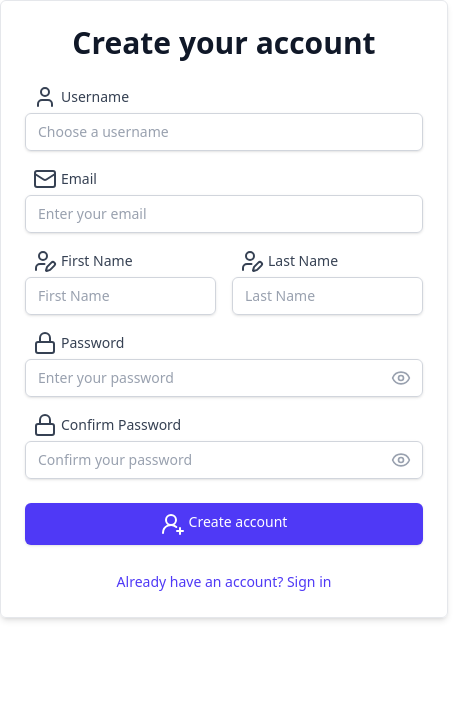
RegisterForm › API Integration › handles server health check failure
The image size is (465, 720).
Type "testuser" into the field labelled "Username" at point(224, 132), box [25,113,423,151]
Type "test@example.com" into the field labelled "Email" at point(224, 214), box [25,195,423,233]
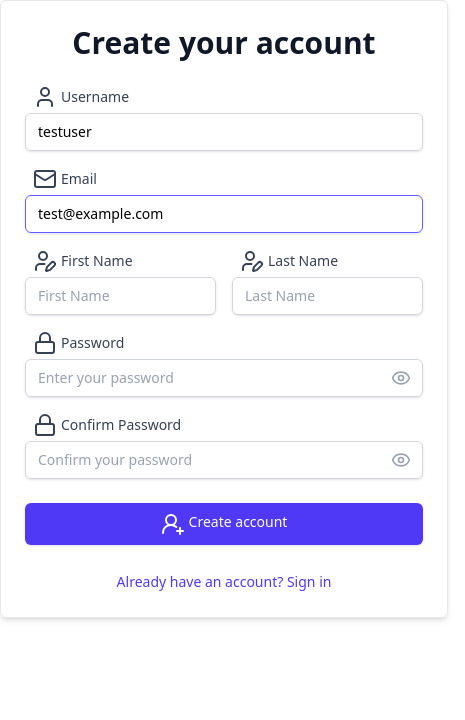
Type "John" into the field labelled "First Name" at point(120, 296), box [25,277,216,315]
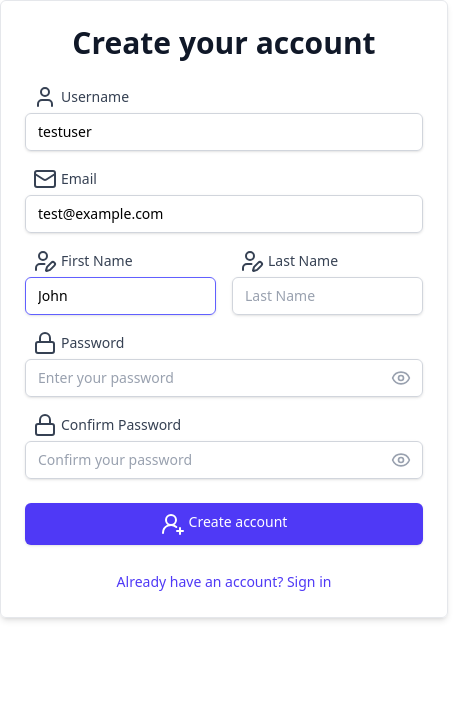
Type "Doe" into the field labelled "Last Name" at point(328, 296), box [232,277,423,315]
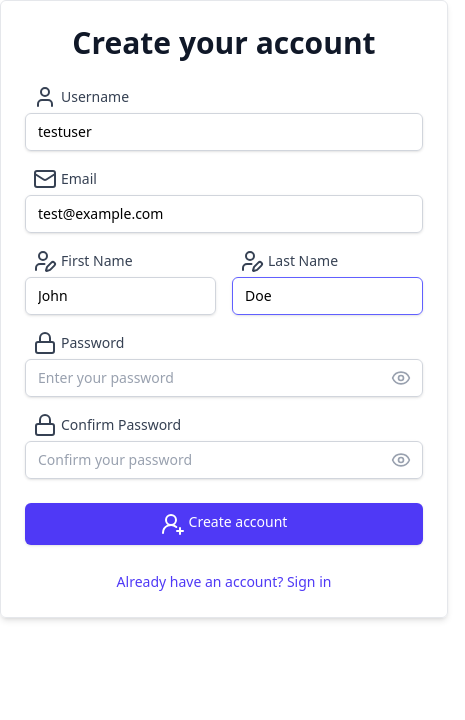
Type "password123" into the password field labelled "Password" at point(224, 378), box [25,359,423,397]
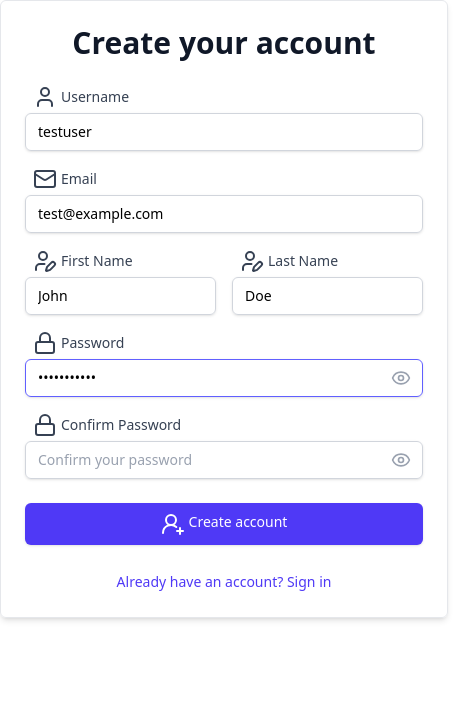
Type "password123" into the password field labelled "Confirm Password" at point(224, 460), box [25,441,423,479]
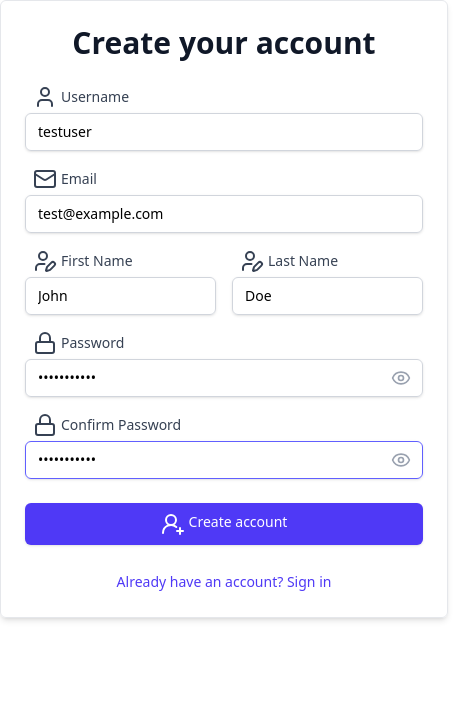
Click the button "Create account" at point(224, 524), box [25,503,423,545]
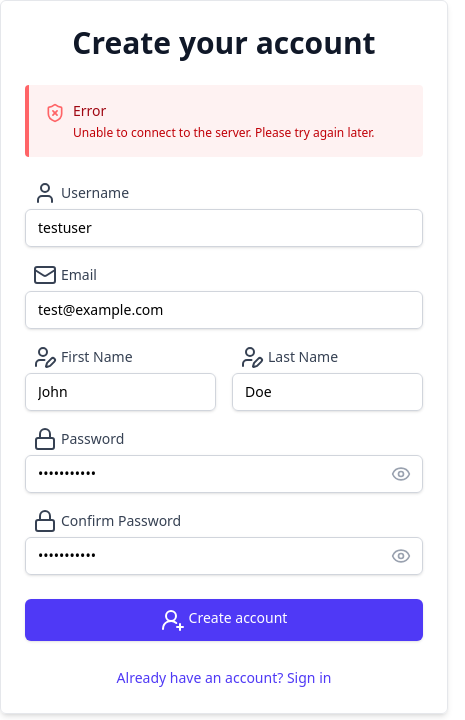
Check: the text "Unable to connect to the server. Please try again later." is shown, box [73,125,375,141]
